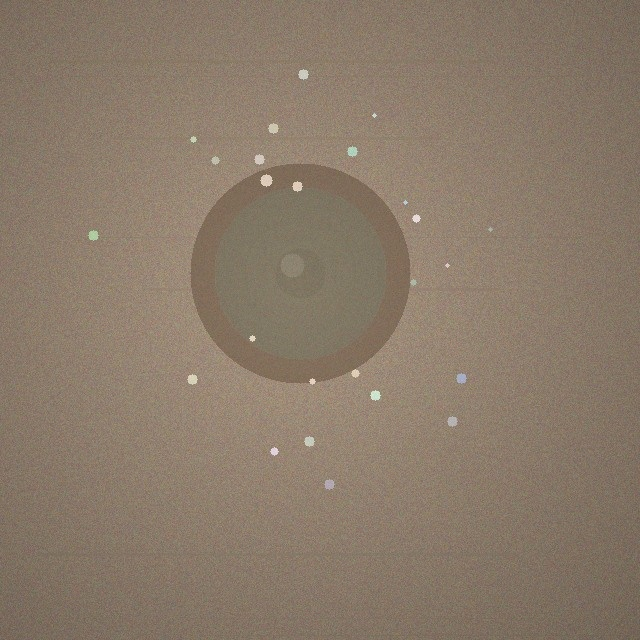overburn: (190, 163, 410, 383)
